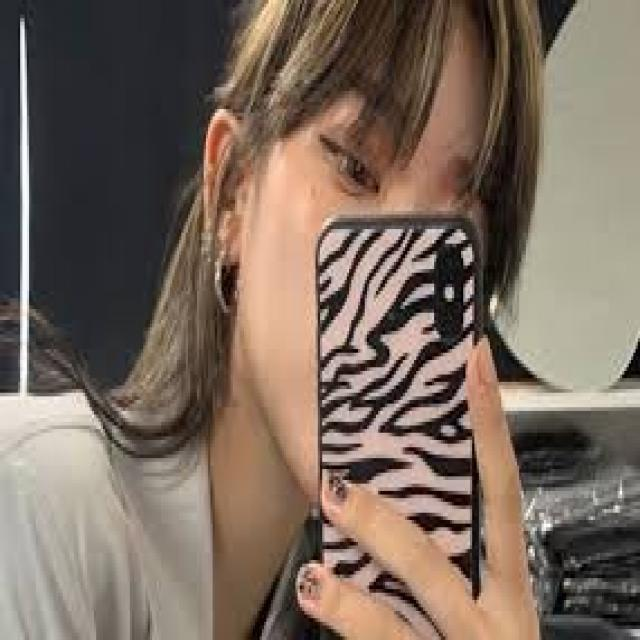Phone: (313, 212, 486, 640)
